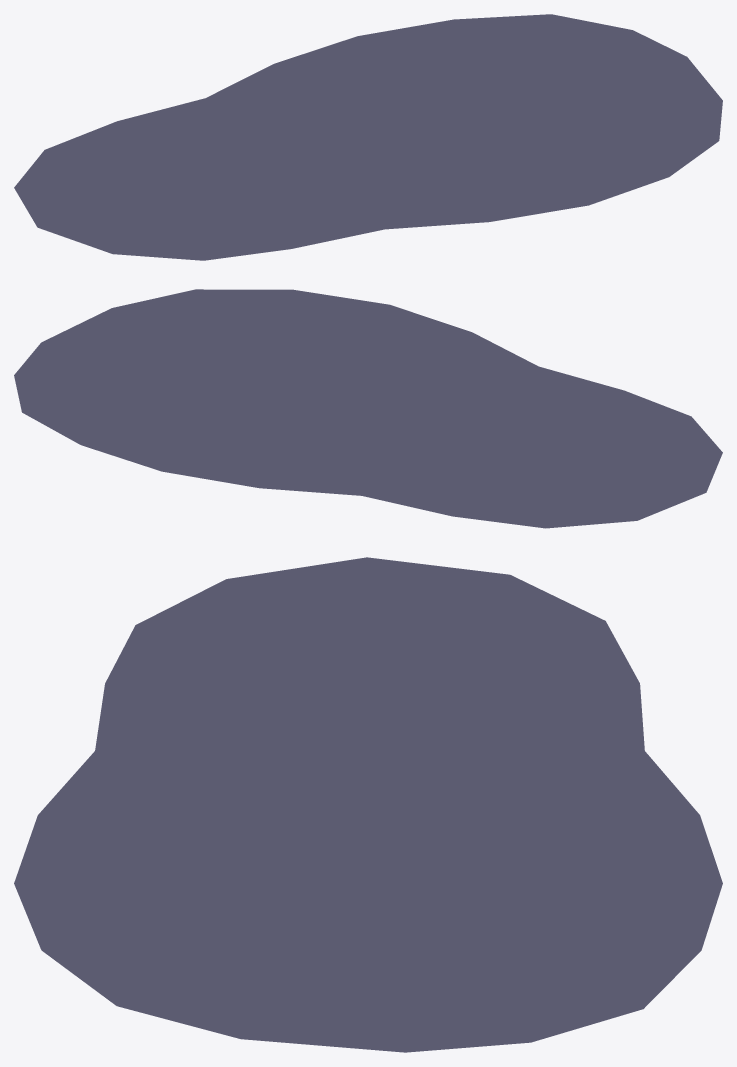
Rendered from Pond_4.gltf.
The picture shows the model from 3 angles, top to bottom: view 1: azimuth 30°, elevation 25°; view 2: azimuth 150°, elevation 25°; view 3: azimuth 270°, elevation 25°; orthographic projection. The views are drawn at different scales.
Visible parts, largest first — view 1: Pond_4; view 2: Pond_4; view 3: Pond_4.
Part boxes in pixels (x1=…): Pond_4: x1=14, y1=14, x2=722, y2=260; Pond_4: x1=14, y1=289, x2=722, y2=528; Pond_4: x1=14, y1=557, x2=722, y2=1052.
Size of the model in its own units: 275 by 2.29e-10 by 166.
1 material, 1 textured.
